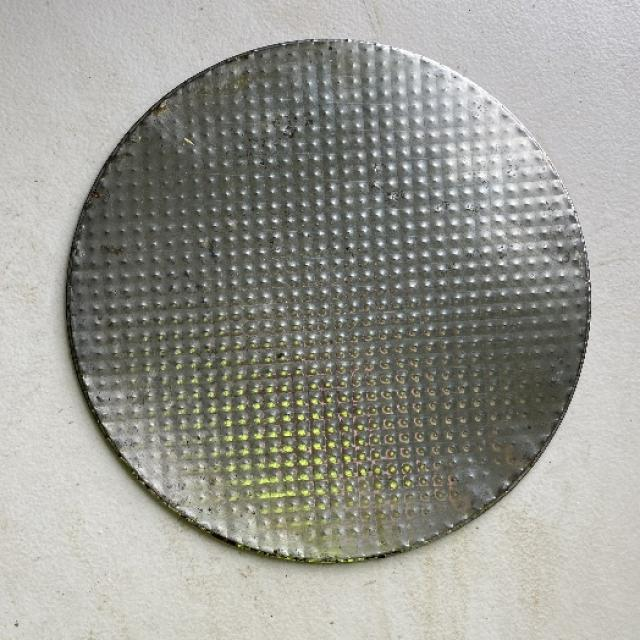metal: (64, 37, 591, 563)
